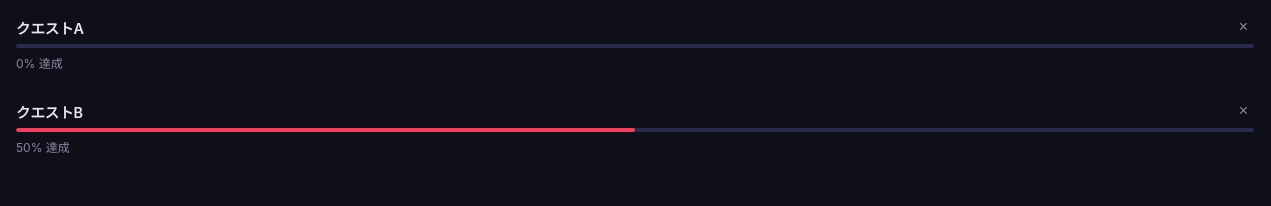
QuestList › 削除ボタンを押すとインライン確認が表示される
Click the 1st button titled "削除": (1243, 27) [1233,16,1254,38]
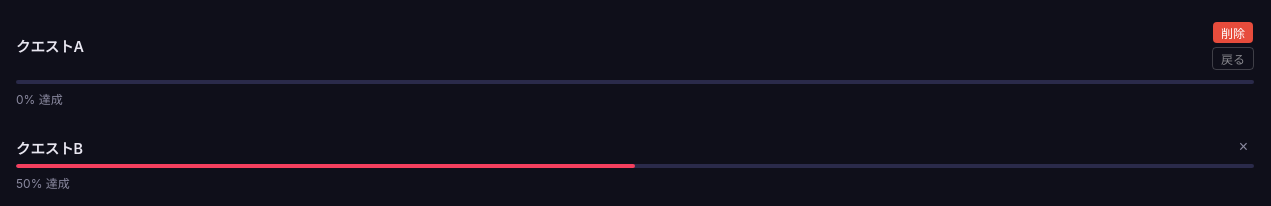
Check: the button titled "削除を確定" is shown, box [1213,22,1253,43]
Check: the button titled "キャンセル" is shown, box [1212,47,1254,70]
